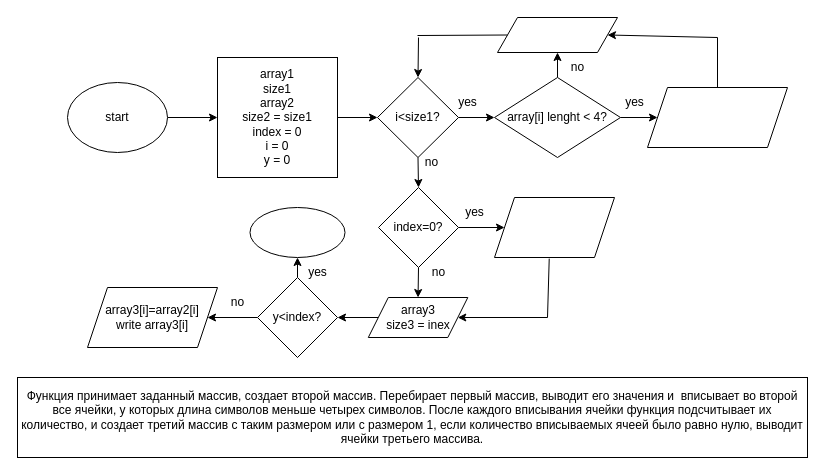
This 825x475 diagram has some shape labels left out. The centre of each missing label's shape, as x and y in pixels:
"array2[index]=array[i] index=index+1" goes at (x=717, y=117).
"end" goes at (x=297, y=232).
"i=i+1 write array[i]" goes at (x=557, y=34).
"index=index+1" goes at (x=554, y=227).
